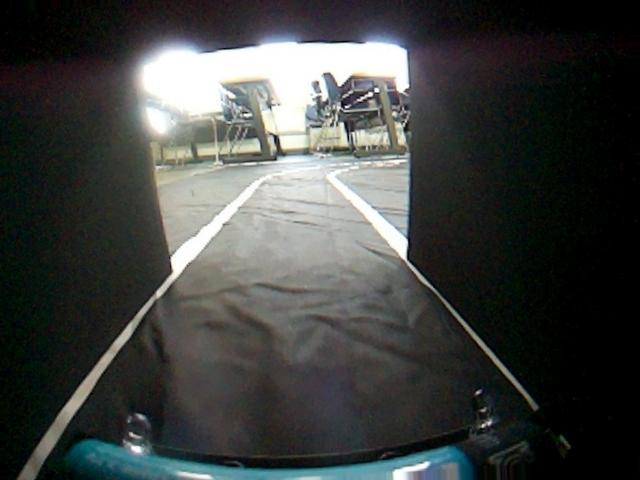straight: (10, 184, 637, 479)
